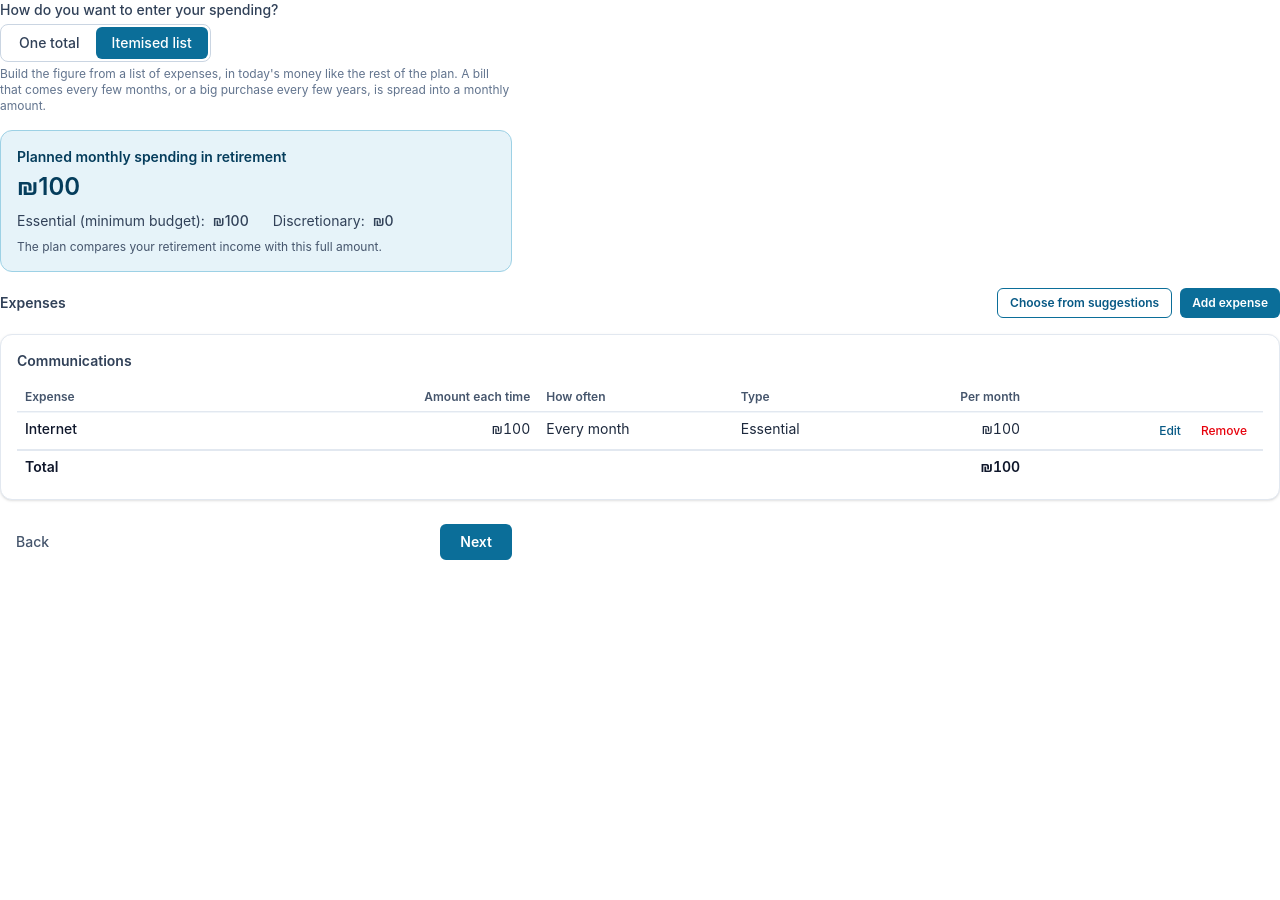
Scenario: ExpensesStep — itemised list › removes an expense only after confirming
Click the button "Remove" at [1224, 431], box top-left (1193, 419), bottom-right (1255, 443)
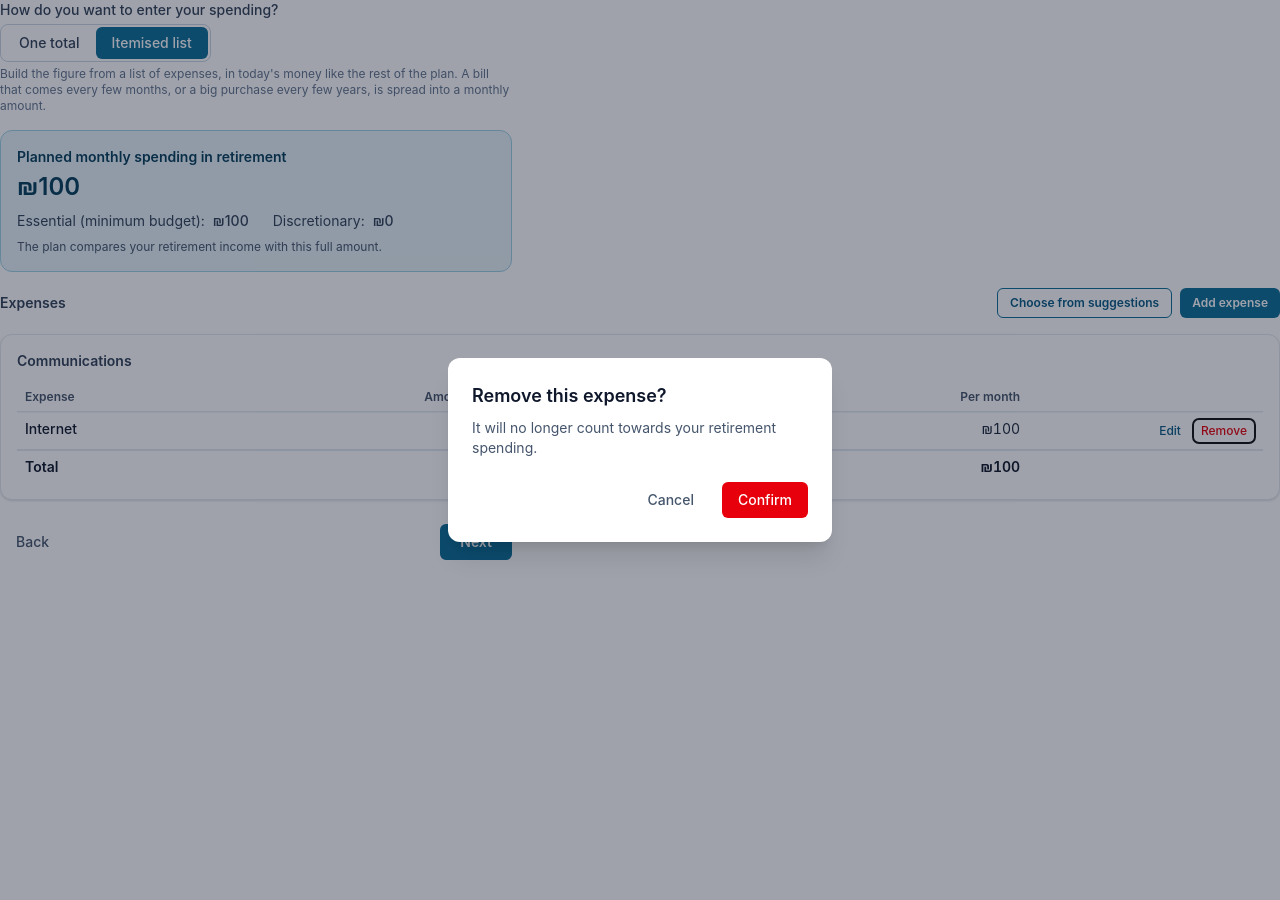
Click the button "Cancel" at [671, 500], box top-left (632, 482), bottom-right (710, 518)
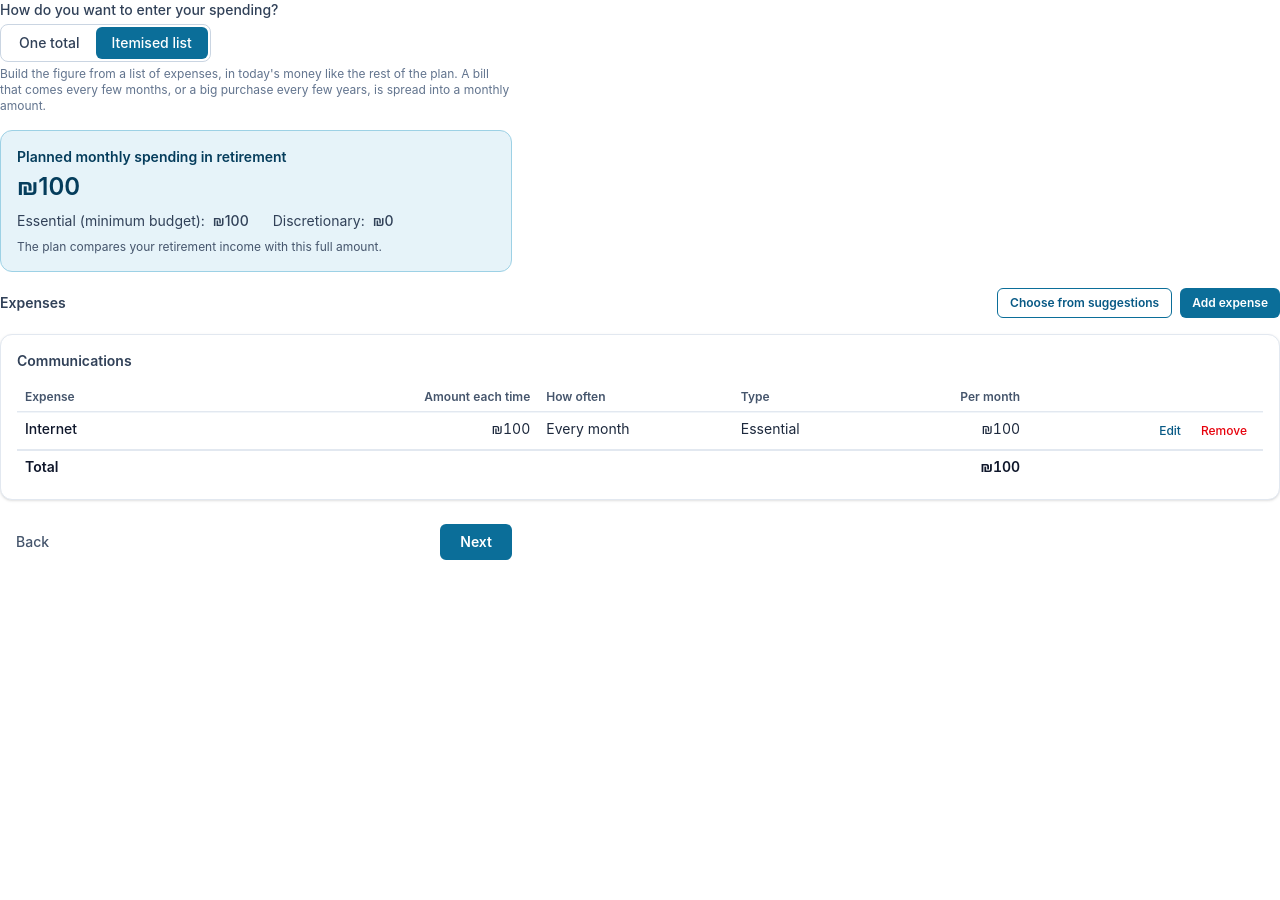
Expected: the text "Internet" is shown, top-left (25, 420), bottom-right (77, 437)
Click the button "Remove" at [1224, 431], box top-left (1193, 419), bottom-right (1255, 443)
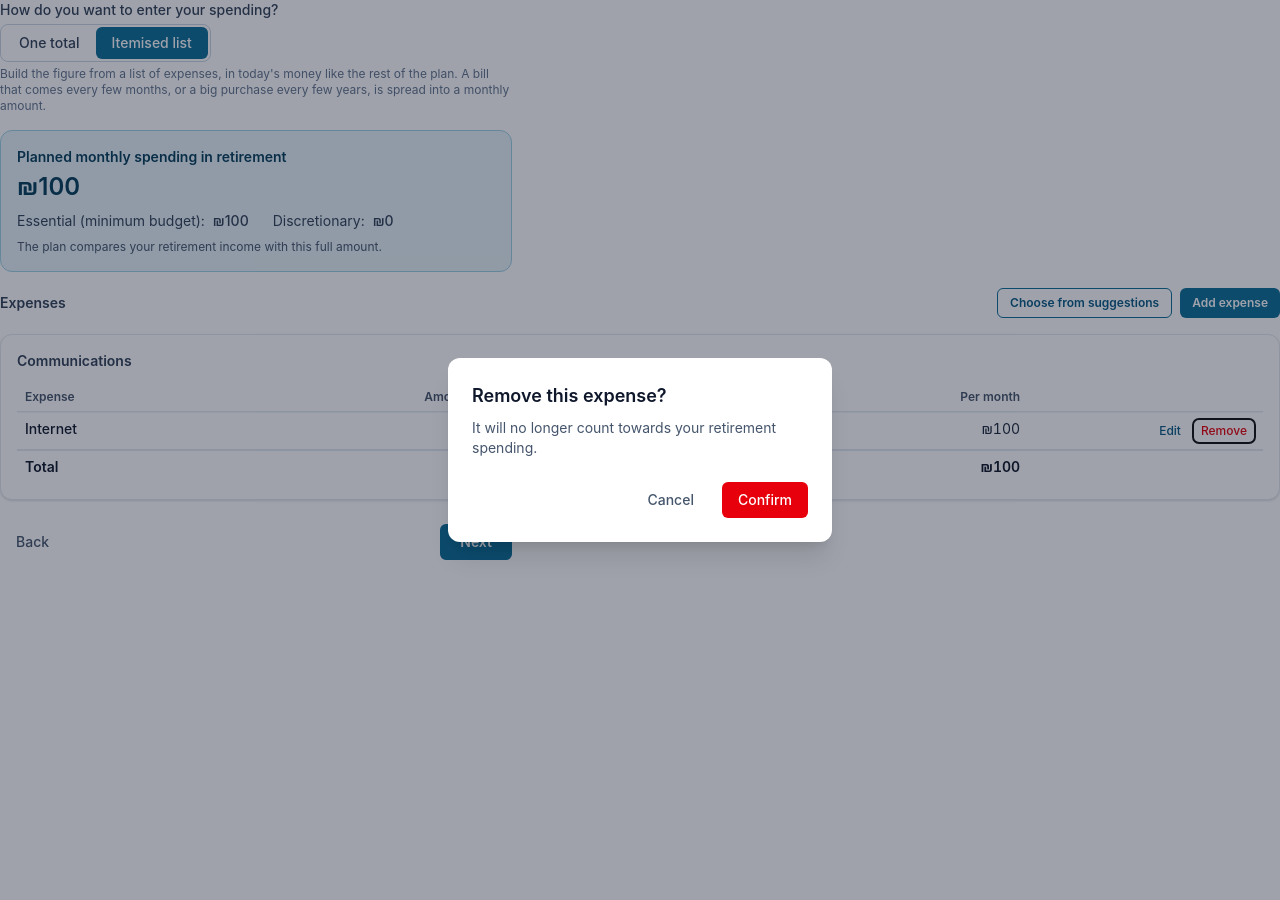
Click the button "Confirm" at [765, 500], box top-left (722, 482), bottom-right (808, 518)
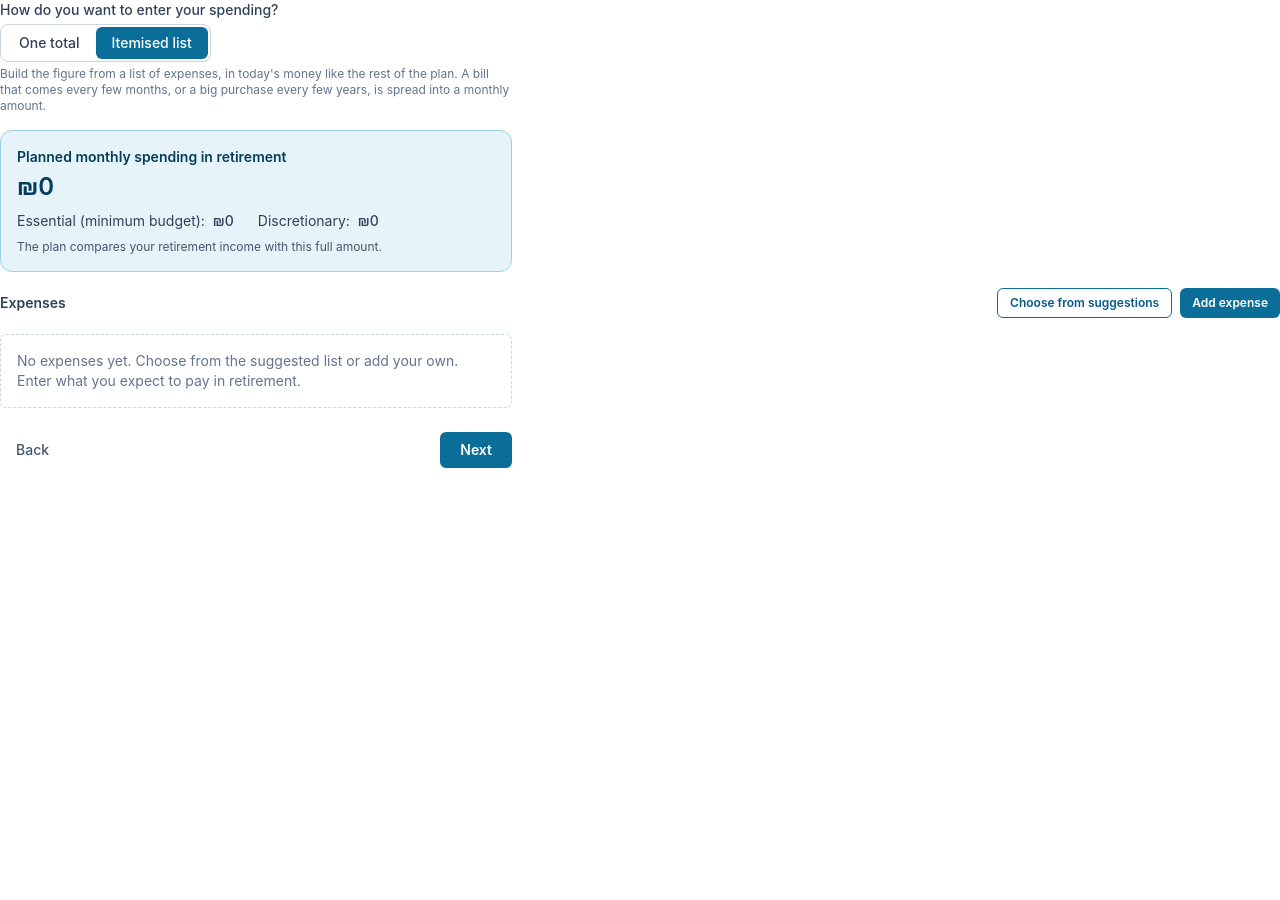
Expected: the text "No expenses yet" is shown, top-left (17, 352), bottom-right (458, 389)
